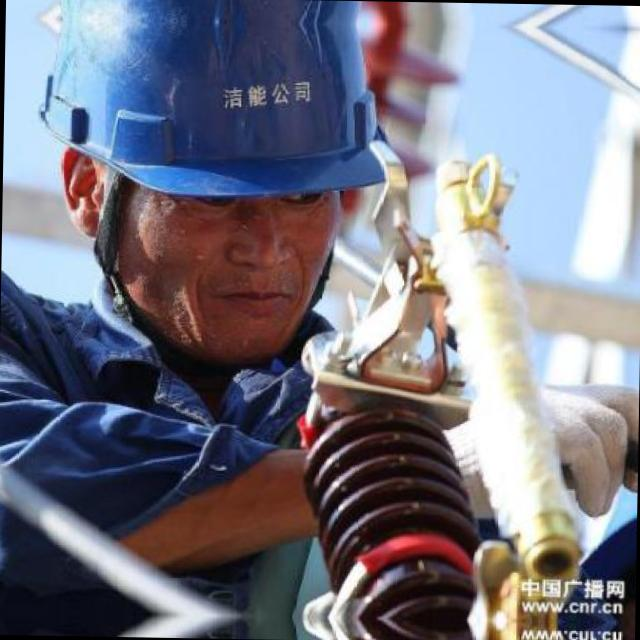helmet: (34, 27, 416, 370)
